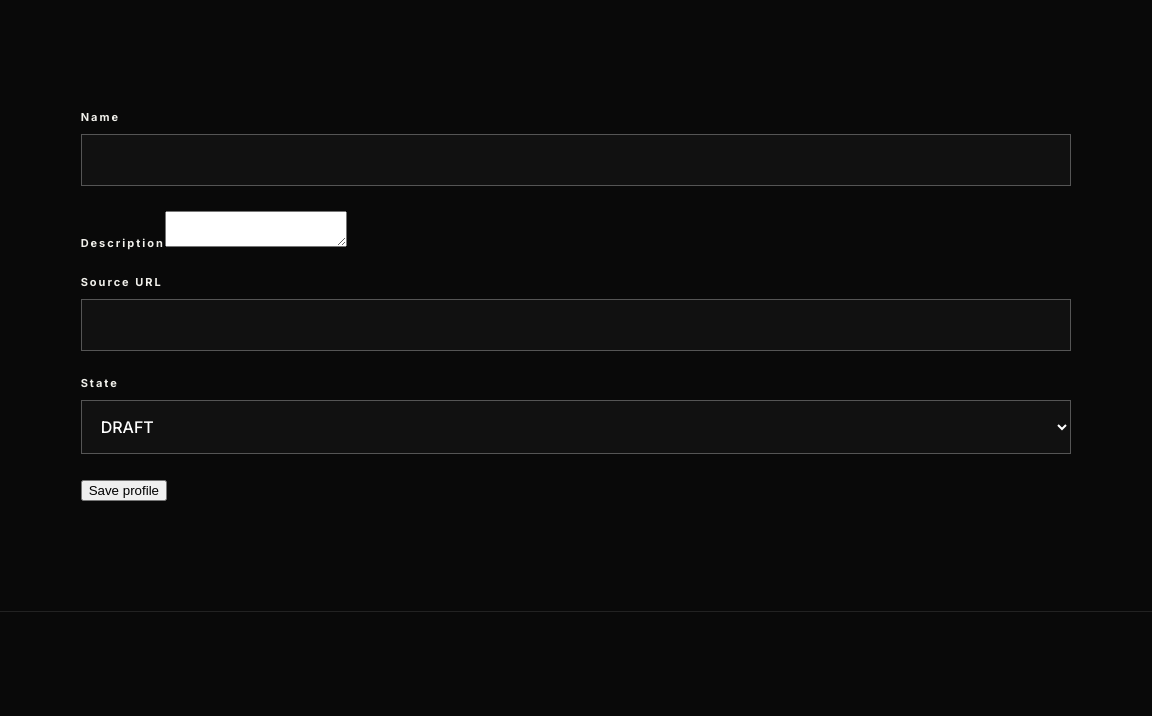
Test: creates only a missing authorised profile with create precondition and rereads the canonical baseline
Type "Store A" into the field labelled "Name" at (576, 160), box [81, 134, 1071, 186]
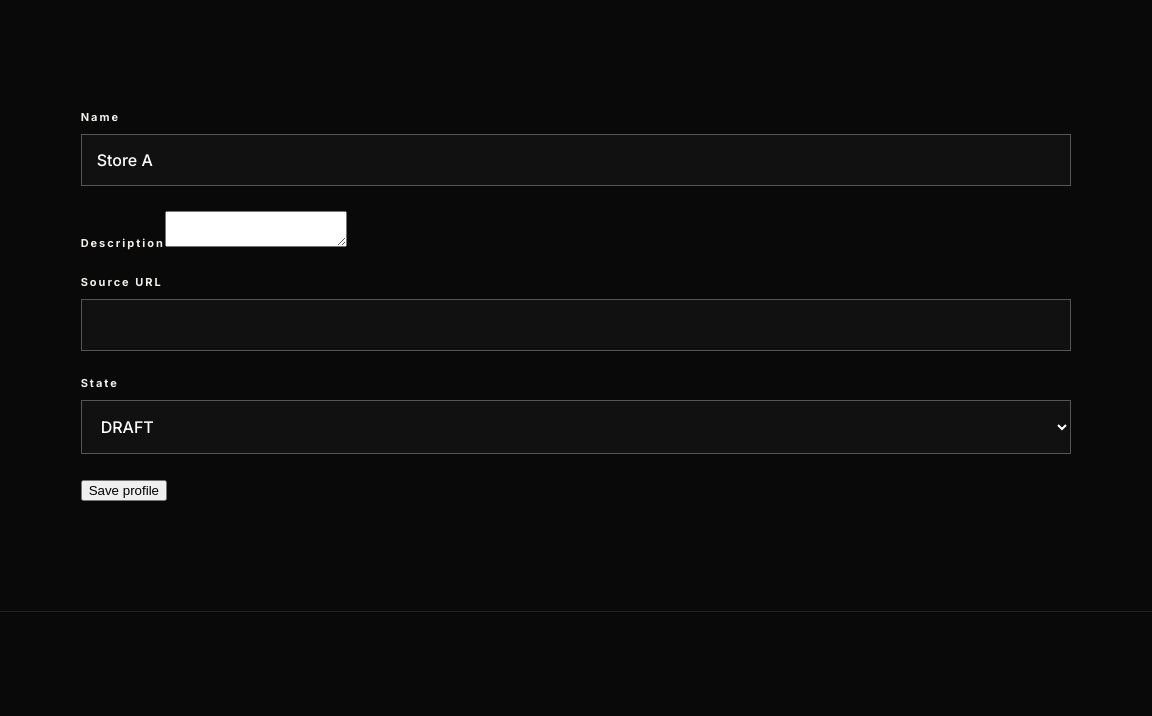
Type "Text" into the text box labelled "Description" at (256, 229), box [165, 211, 347, 247]
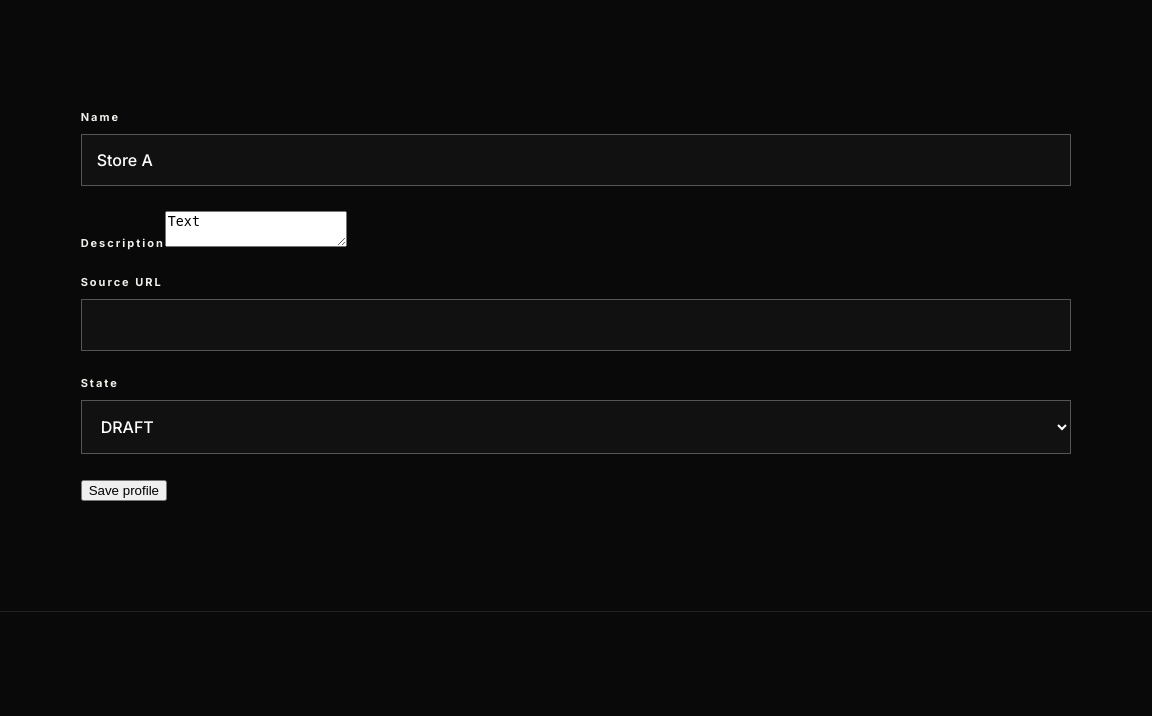
Type "https://a.test/about" into the field labelled "Source URL" at (576, 325), box [81, 299, 1071, 351]
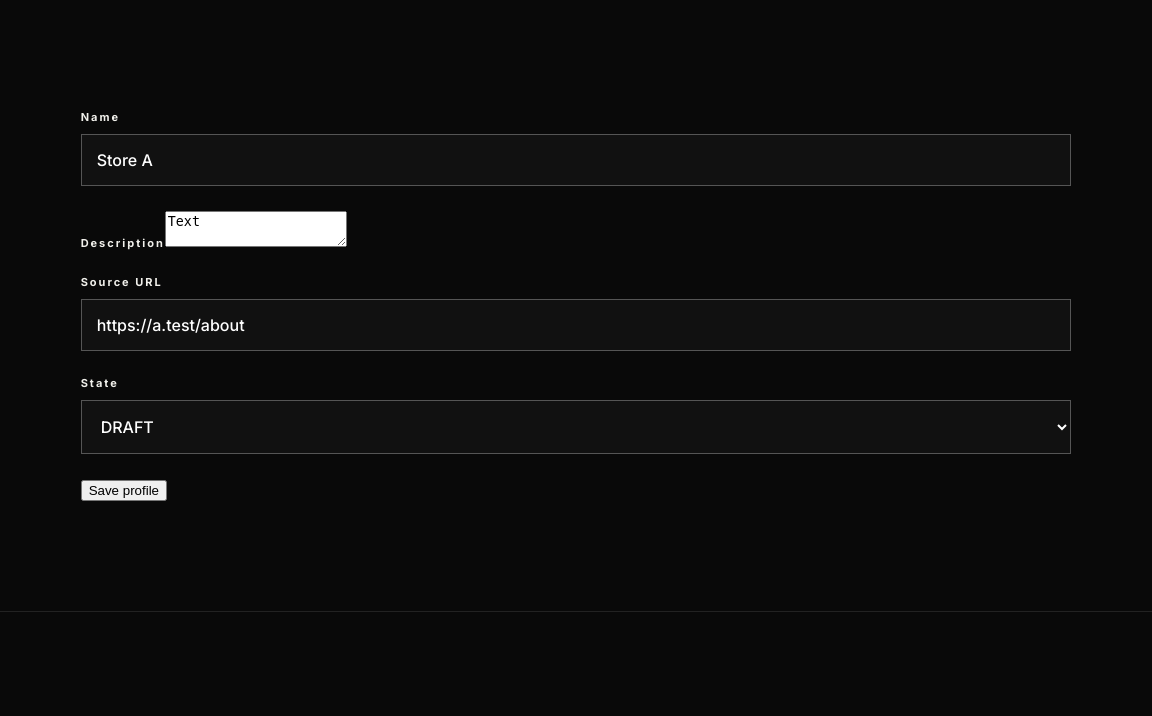
Click the button "Save profile" at (124, 490), box [81, 480, 167, 501]
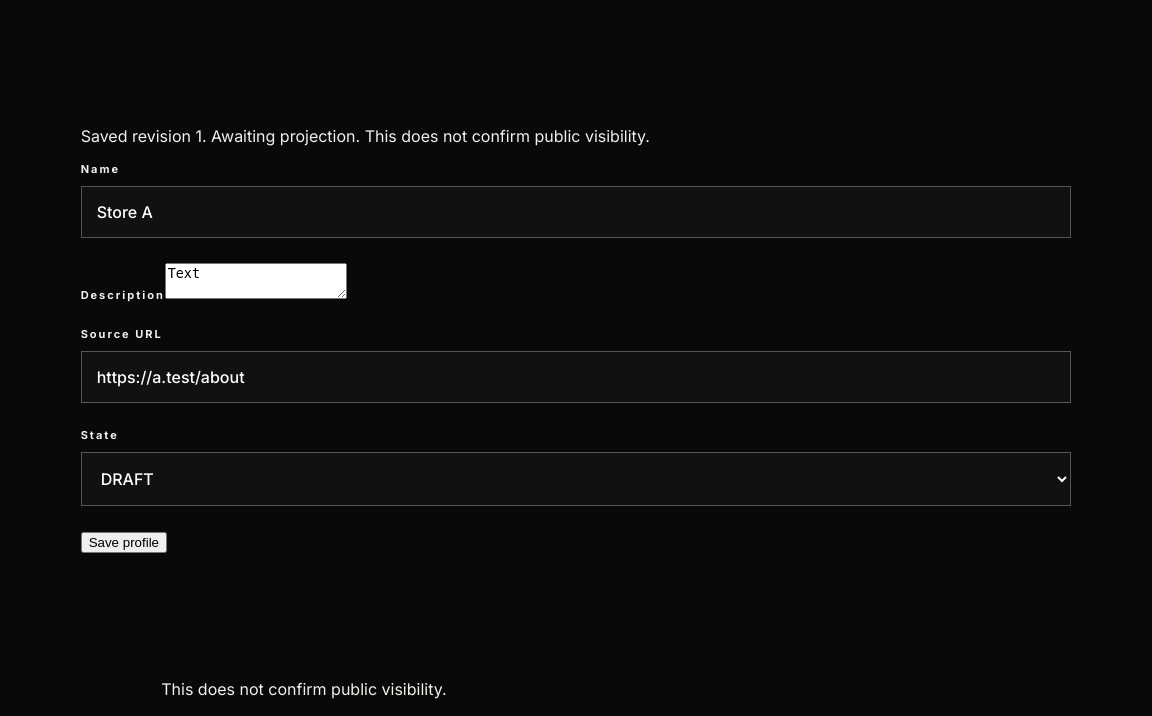
Expected: the text "Saved revision 1" is shown, [81, 126, 650, 146]
